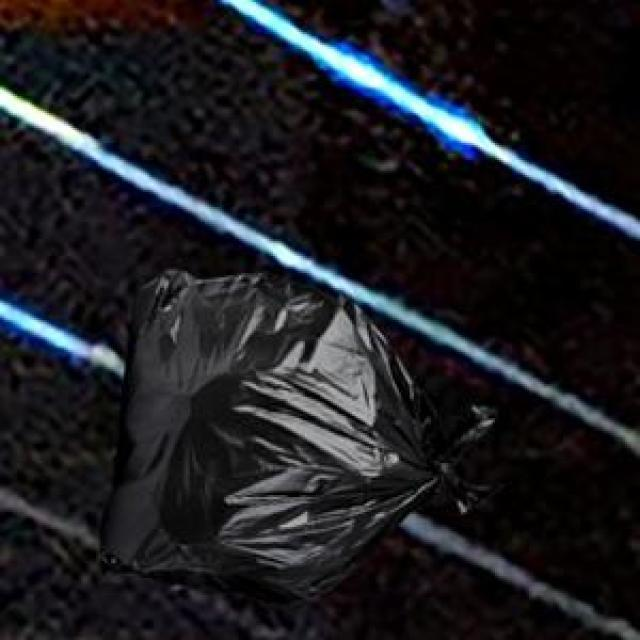waste: (105, 271, 492, 594)
